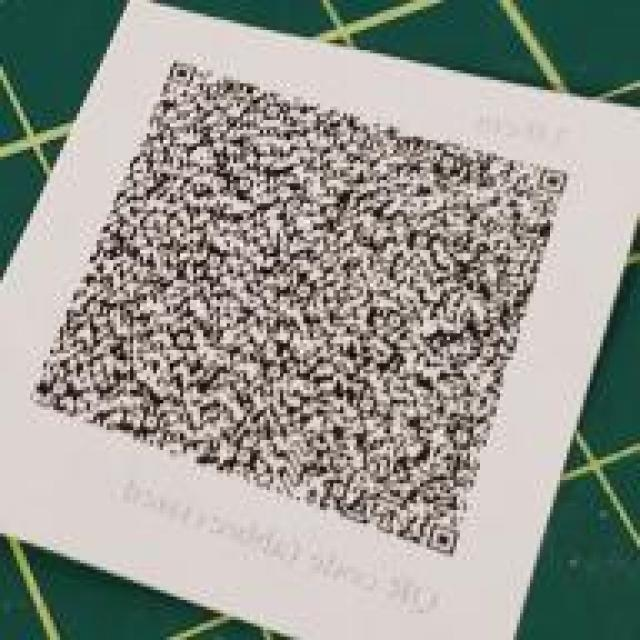QR_CODE: (17, 34, 583, 568)
